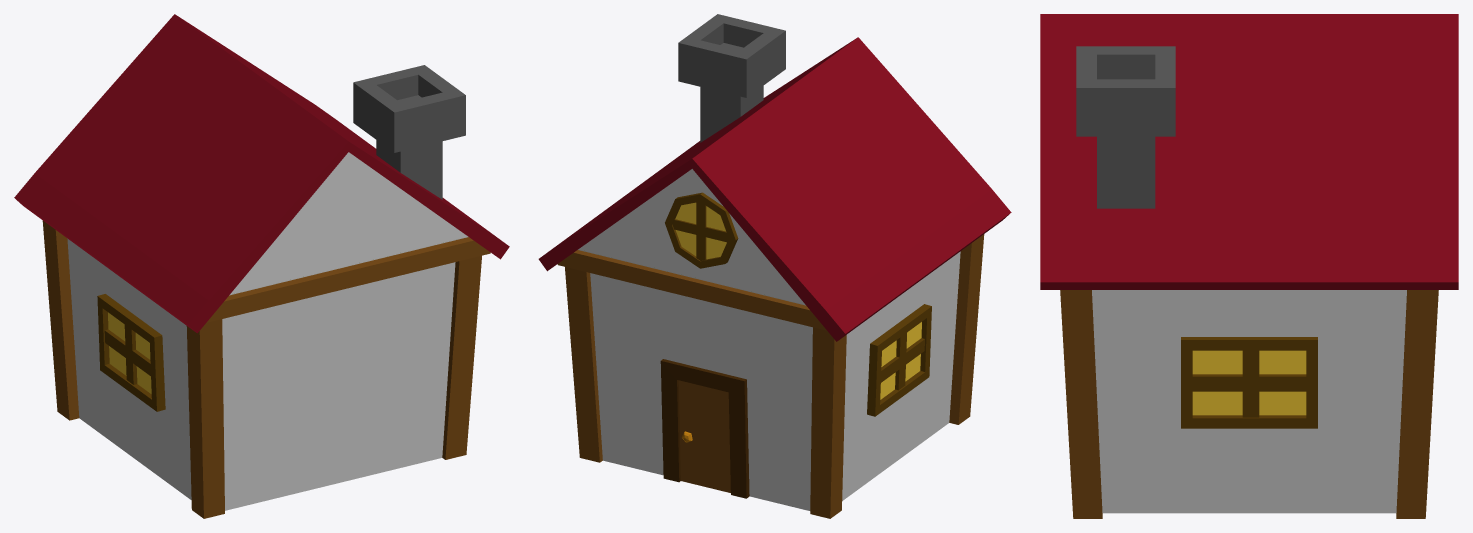
File: House.fbx
The picture shows the model from 3 angles, left to right: view 1: azimuth 30°, elevation 25°; view 2: azimuth 150°, elevation 25°; view 3: azimuth 270°, elevation 25°; orthographic projection. The views are drawn at different scales.
Parts seen in each view (by area): view 1: pCube27; view 2: pCube27; view 3: pCube27.
Boxes of the visible parts, x1,y1,x2,y2 form: pCube27: [14, 14, 509, 518]; pCube27: [538, 14, 1011, 518]; pCube27: [1040, 14, 1458, 518].
Size of the model in its own units: 5.94 by 6.33 by 5.57.
Materials: 1 (1 with a texture image).
